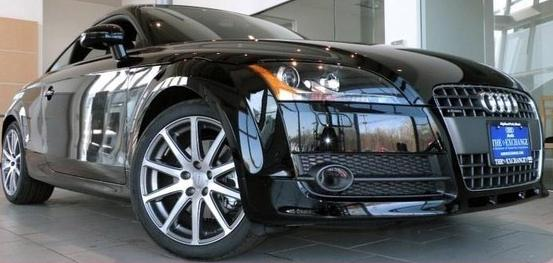front_view: (235, 43, 550, 213)
headlight: (246, 55, 416, 111)
side_glass: (48, 18, 139, 64)
